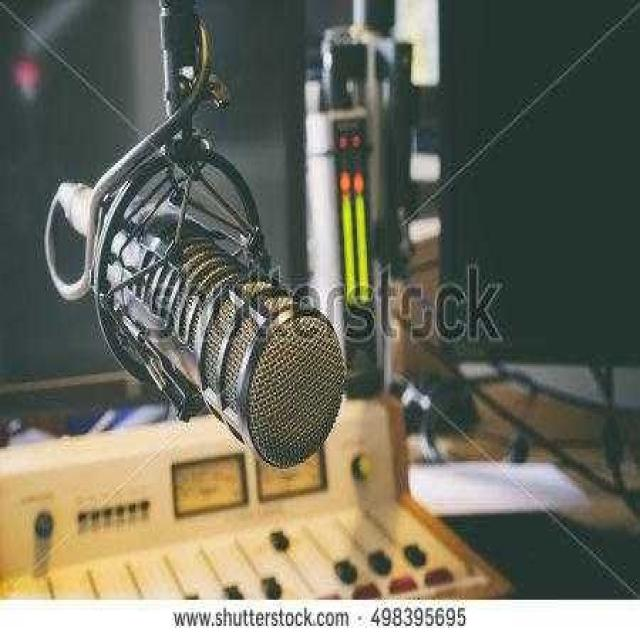microphone: (82, 165, 354, 477)
